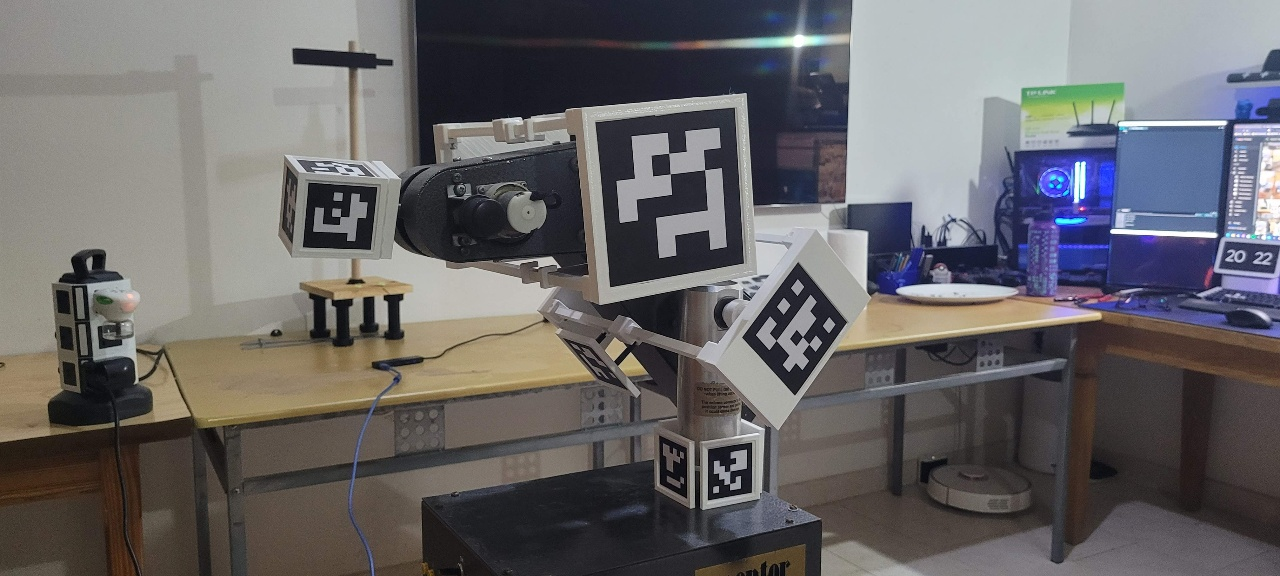Robot: (277, 90, 876, 513)
